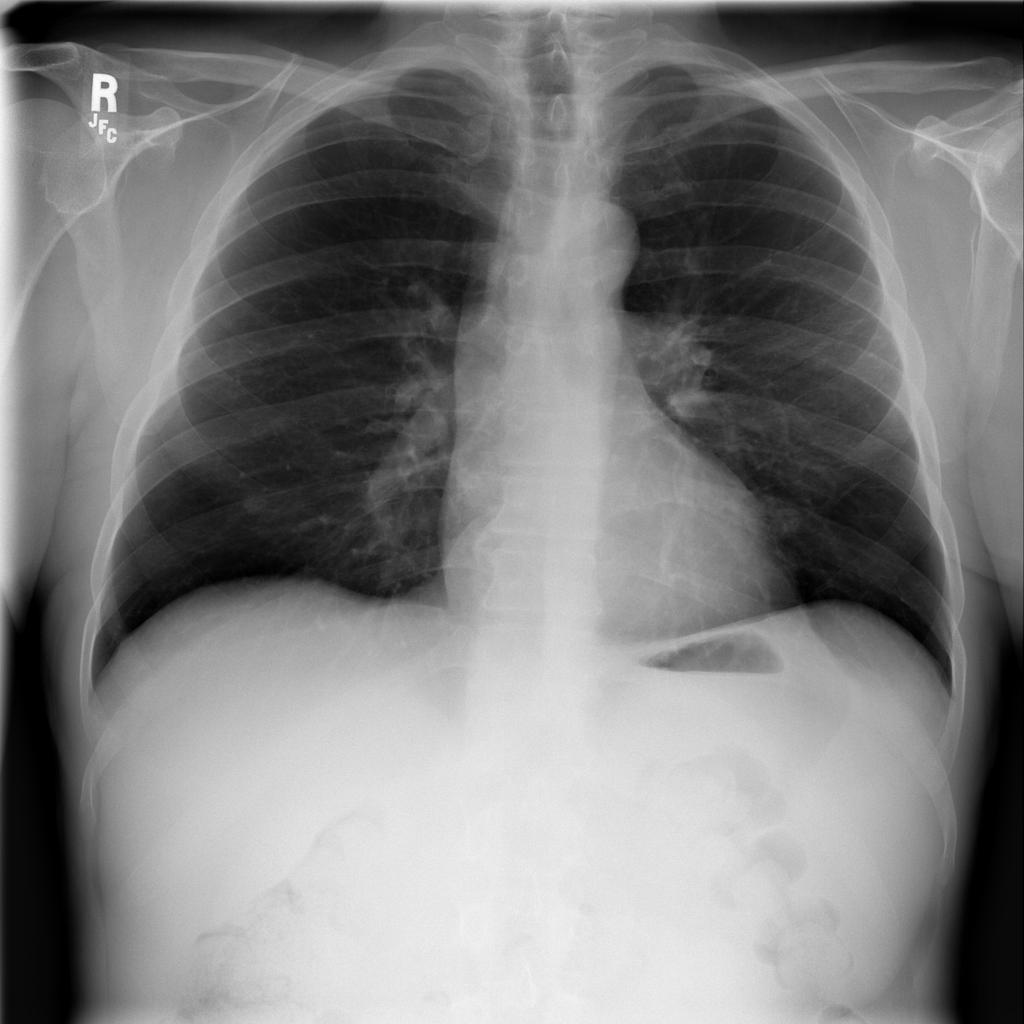nodule: (747, 484, 822, 551), (230, 477, 288, 523)
